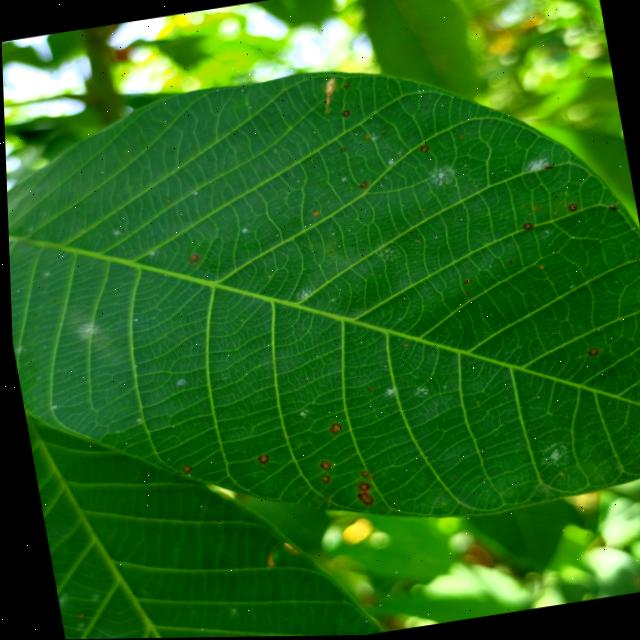Colletotrichum: (353, 492, 370, 508), (325, 423, 339, 435), (354, 482, 366, 494), (255, 455, 266, 464), (317, 462, 328, 471), (179, 465, 188, 475), (317, 475, 327, 484), (585, 350, 596, 358), (521, 224, 530, 232), (340, 111, 350, 118), (566, 206, 576, 213), (419, 147, 428, 154), (358, 471, 366, 478)
Leaf-Blight: (322, 79, 339, 106)
